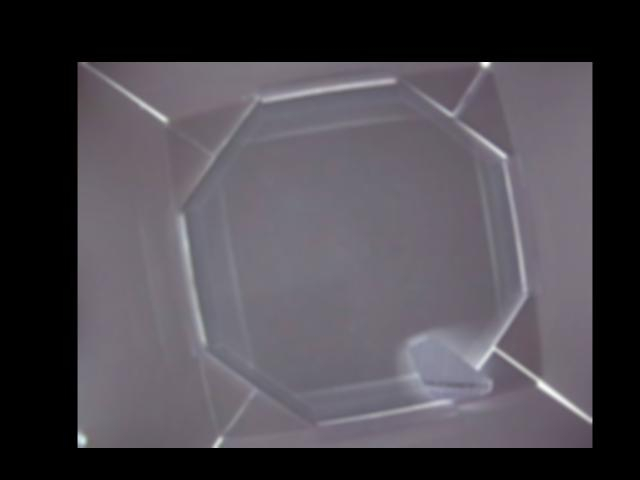China: (407, 332, 495, 406)
